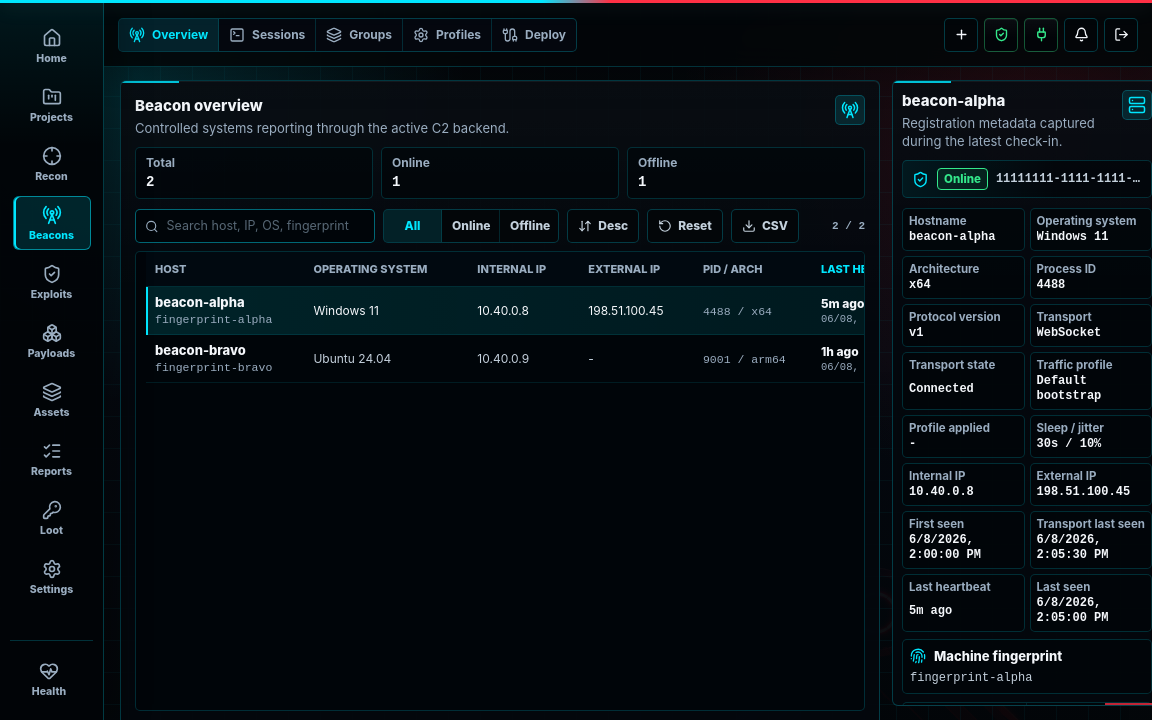
Test: BeaconsPage › kills a beacon after confirmation and removes it from the active list
Double-click the row named "Host beacon-alpha".
double_click(649, 310)  # box [146,286,1151,334]
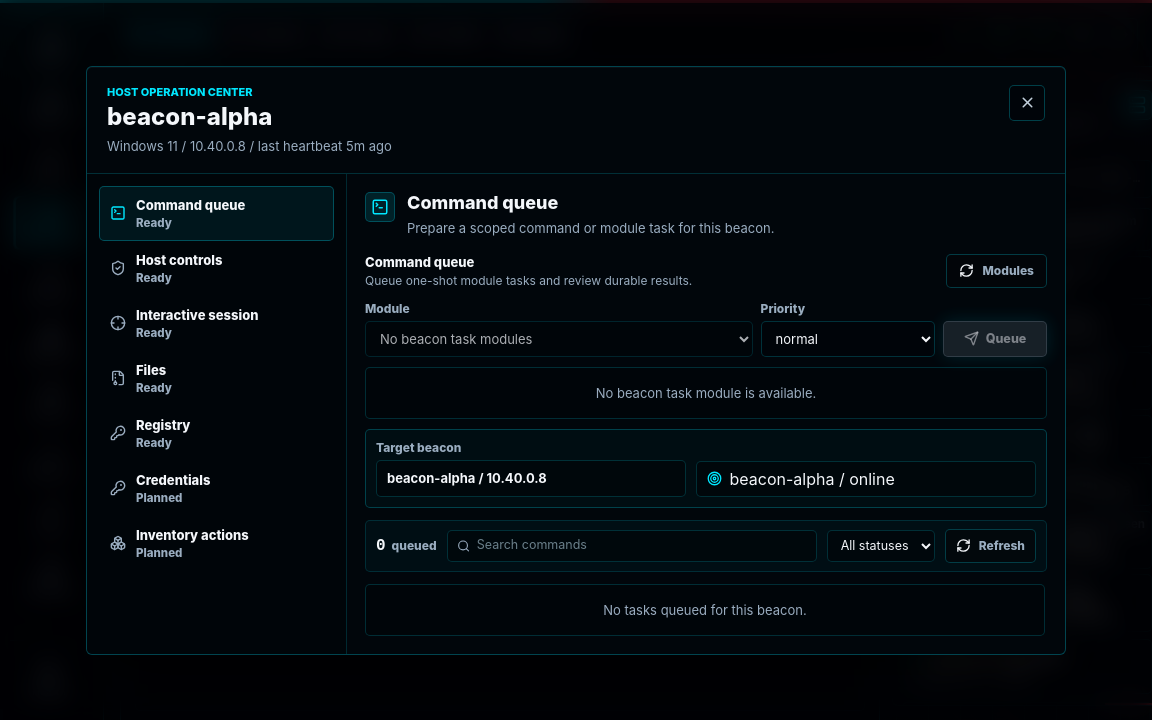
Click the button "Host controls Ready".
click(216, 268)  # box [99,240,334,296]
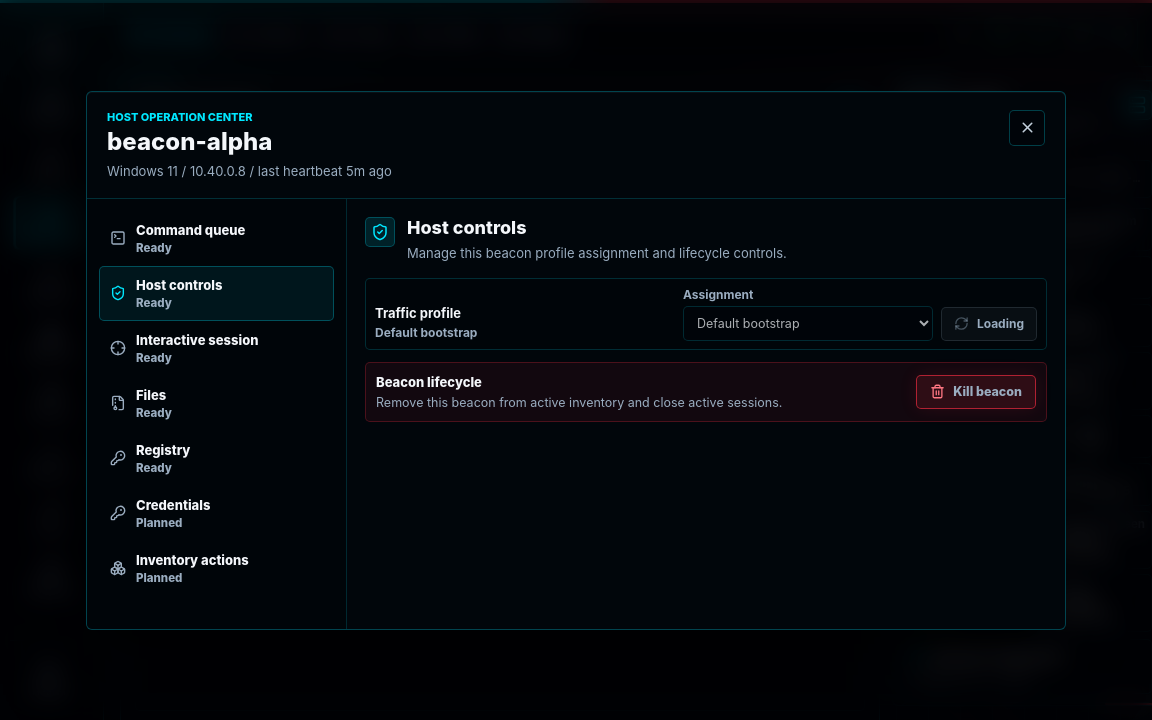
Click the button "Kill beacon".
click(976, 392)  # box [916,374,1036,408]
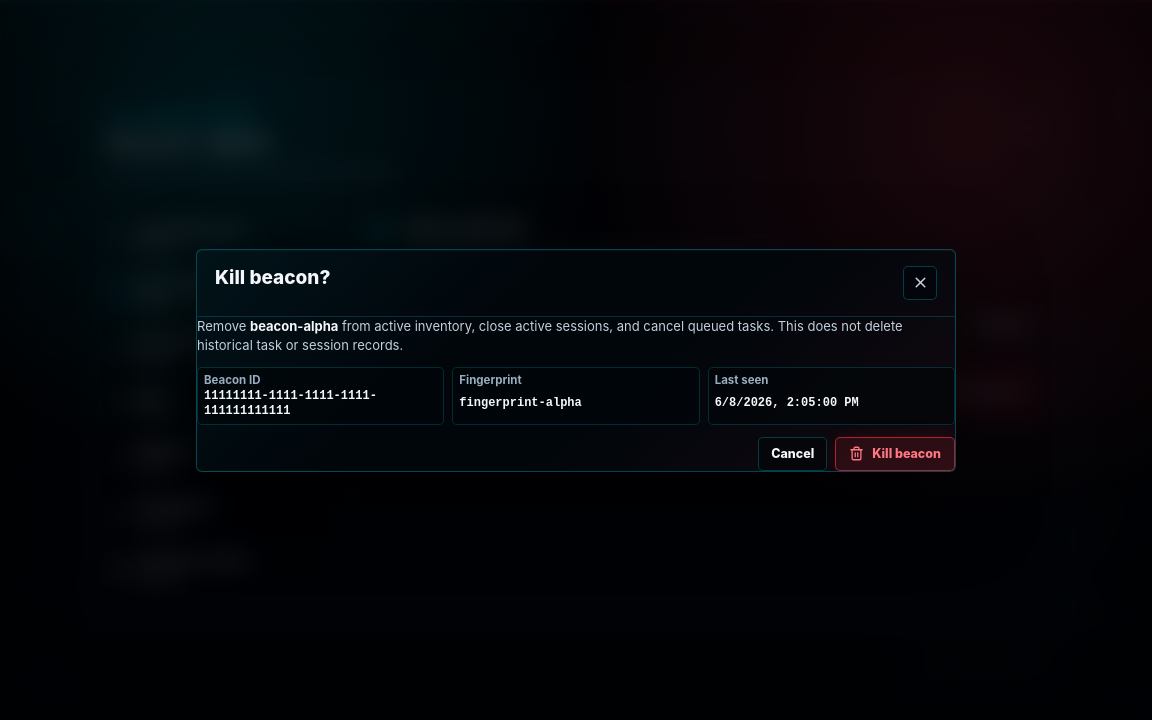
Expected: the dialog named "Kill beacon confirmation" shows "Remove beacon-alpha from active inventory", [196,248,956,472]
Click the button "Cancel".
click(793, 454)  # box [758,436,827,470]
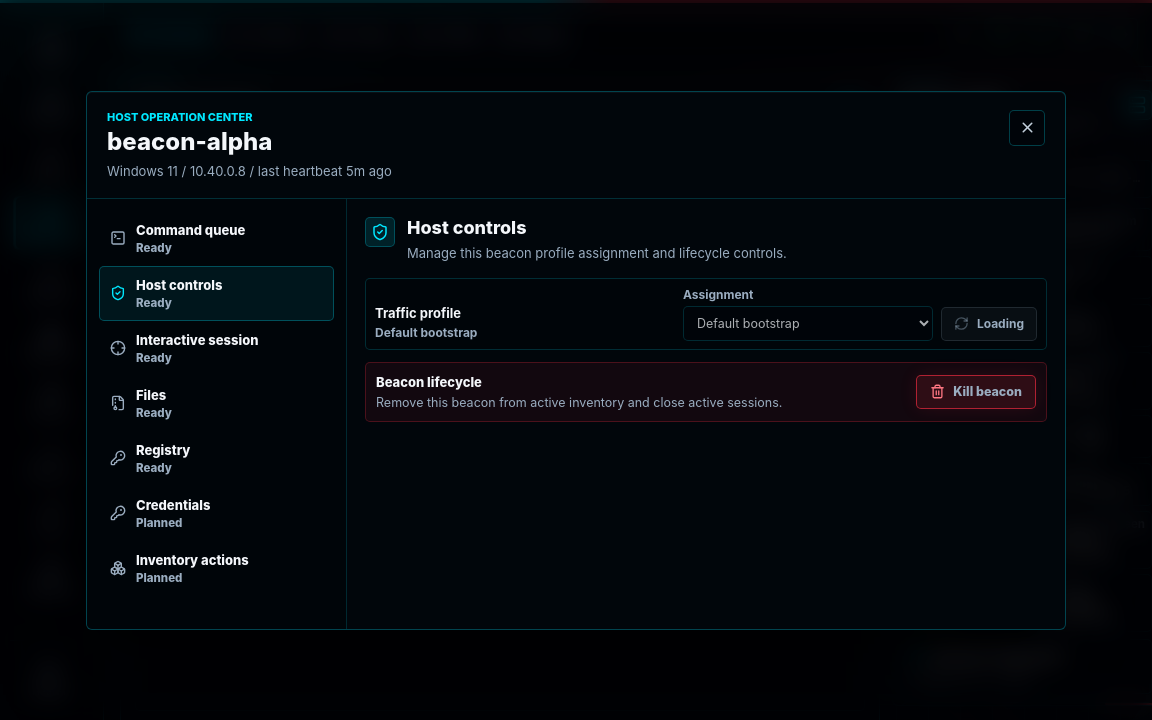
Click the button "Kill beacon".
click(976, 392)  # box [916,374,1036,408]
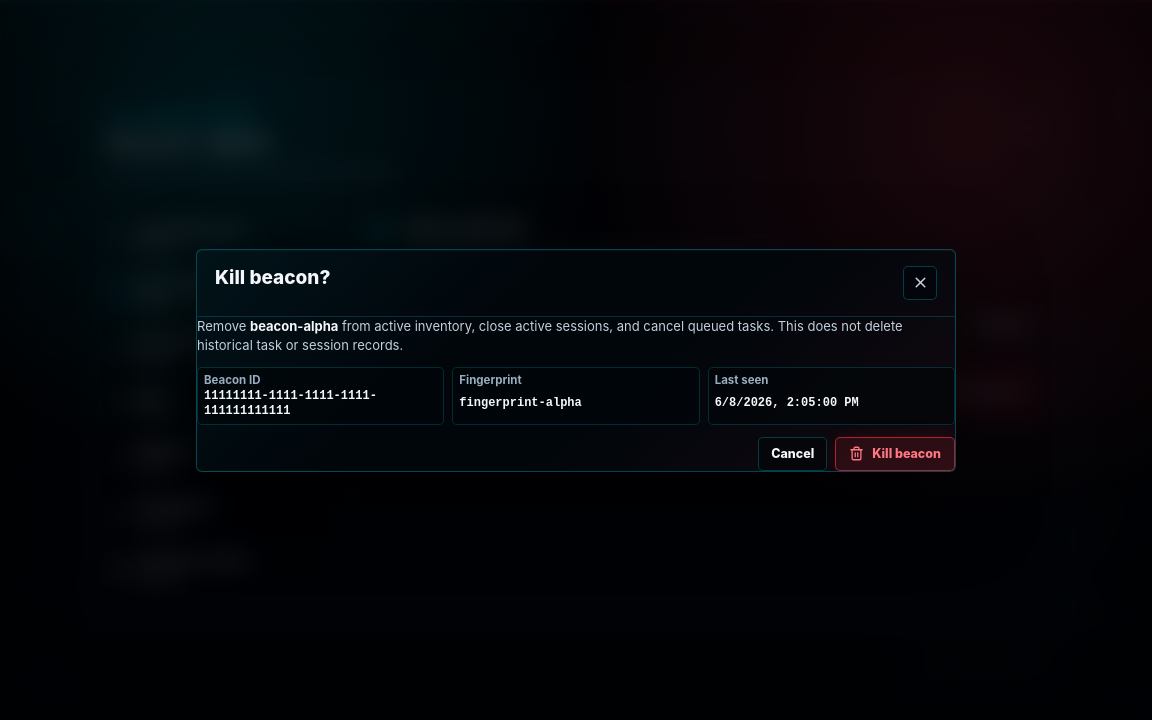
Click the button "Kill beacon".
click(895, 454)  # box [835,436,955,470]
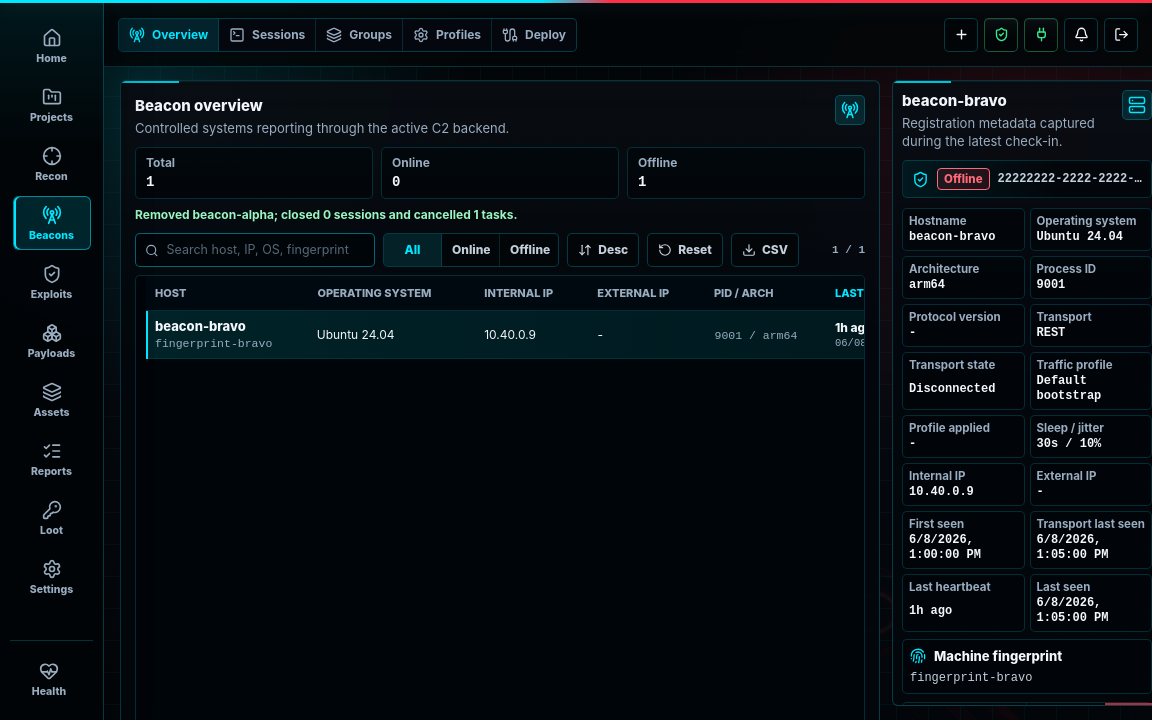
Expected: the text "Removed beacon-alpha; closed 0 sessions and cancelled 1 tasks." is shown, [135,207,517,222]
